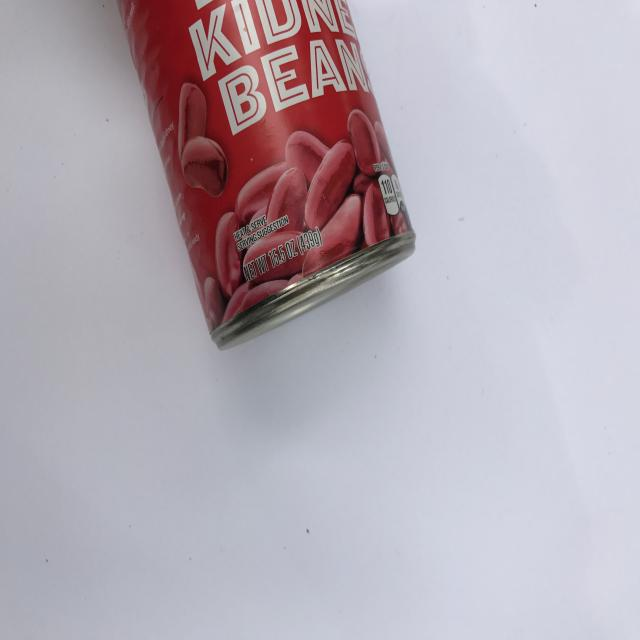Metal: (108, 1, 441, 361)
